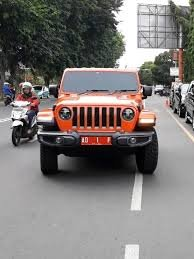mobil: (33, 64, 167, 183)
motor: (8, 95, 35, 146)
